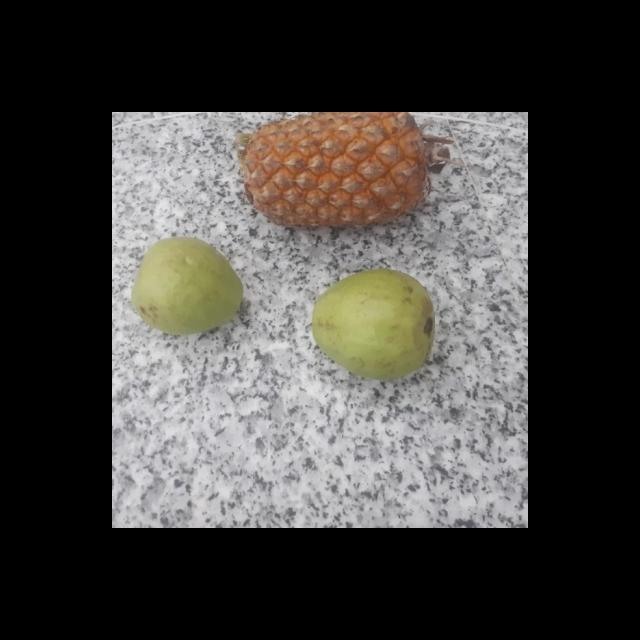guava: (318, 273, 440, 381), (130, 239, 248, 333)
pineapple: (237, 113, 442, 230)
